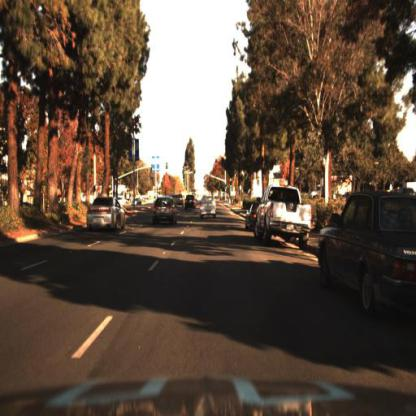car: (318, 189, 416, 322), (253, 182, 314, 245), (85, 196, 129, 236), (151, 194, 179, 228), (245, 200, 262, 233), (201, 197, 219, 219), (184, 193, 199, 214), (174, 191, 188, 211)
